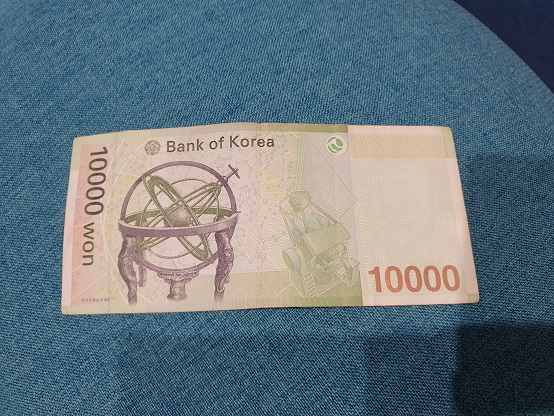10000won: (62, 122, 482, 315)
